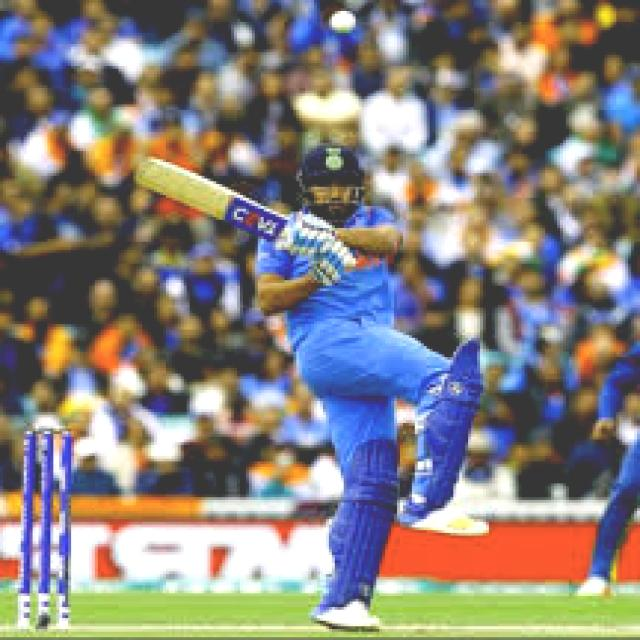toe: (129, 154, 169, 187)
